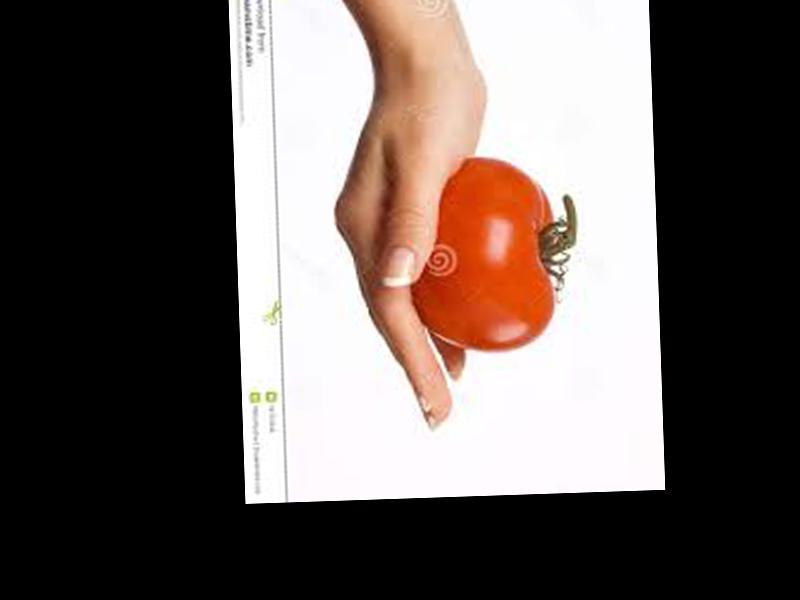Tomato: (407, 155, 557, 354)
